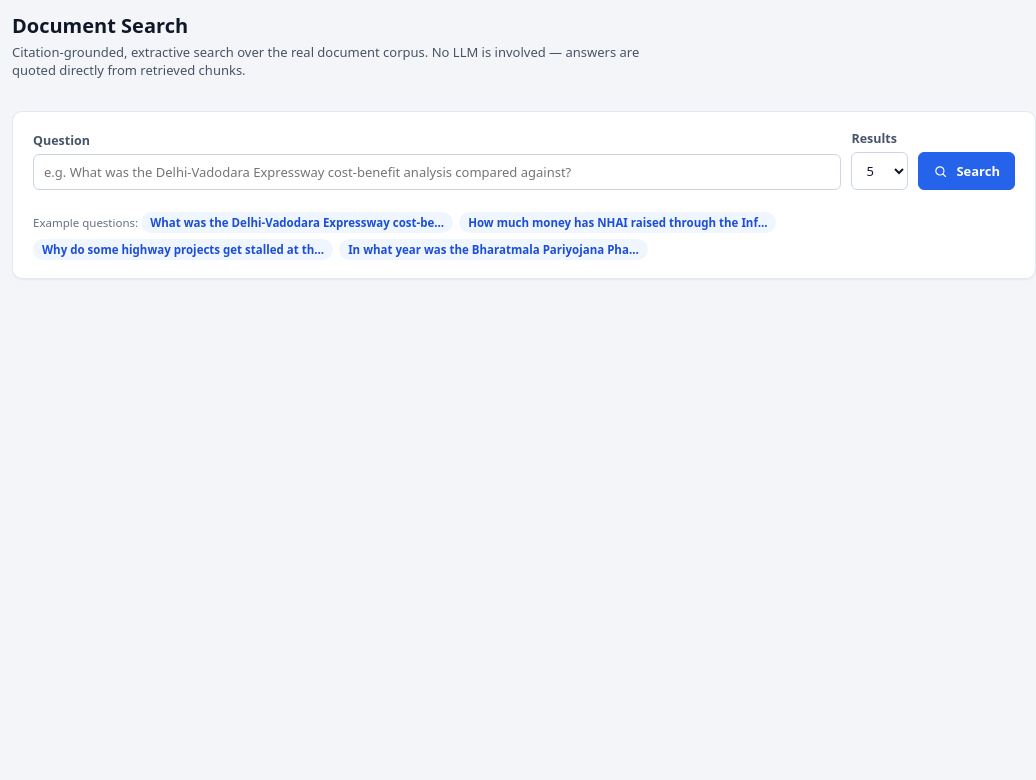
DocumentSearch page › shows the exact backend not-found message when nothing clears the threshold
Replace the text in the field labelled "Question" with "What is the recipe for chocolate cake?" at (437, 172), box [33, 154, 841, 190]
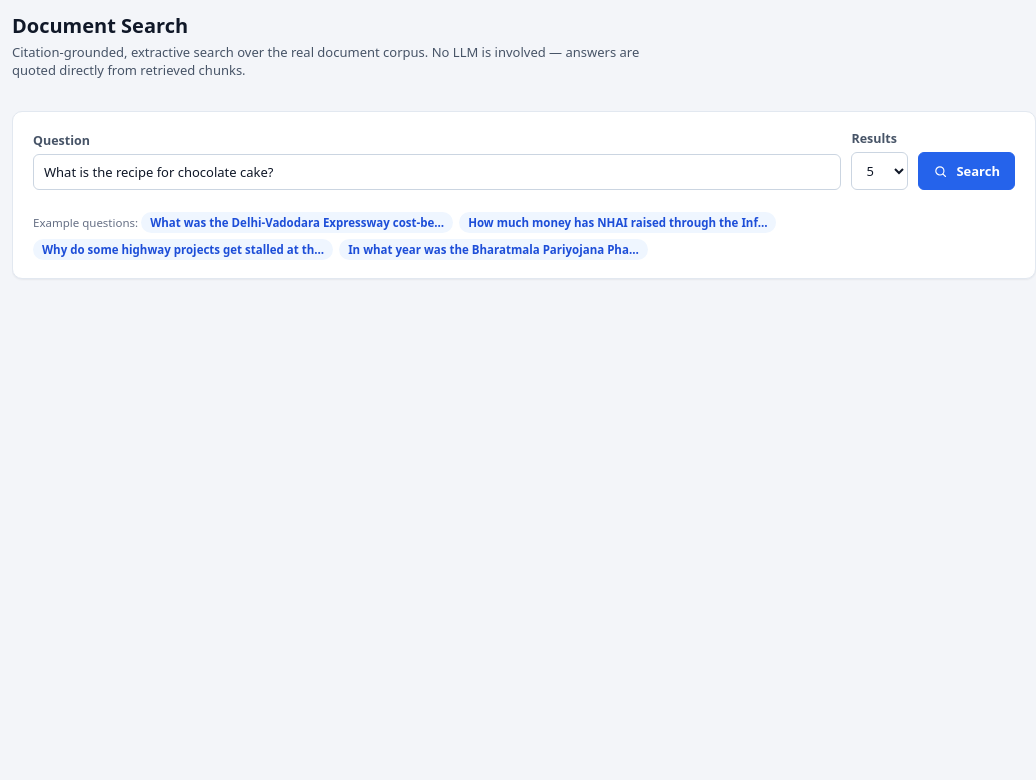
Click the button "Search".
click(967, 171)  # box [918, 152, 1015, 190]
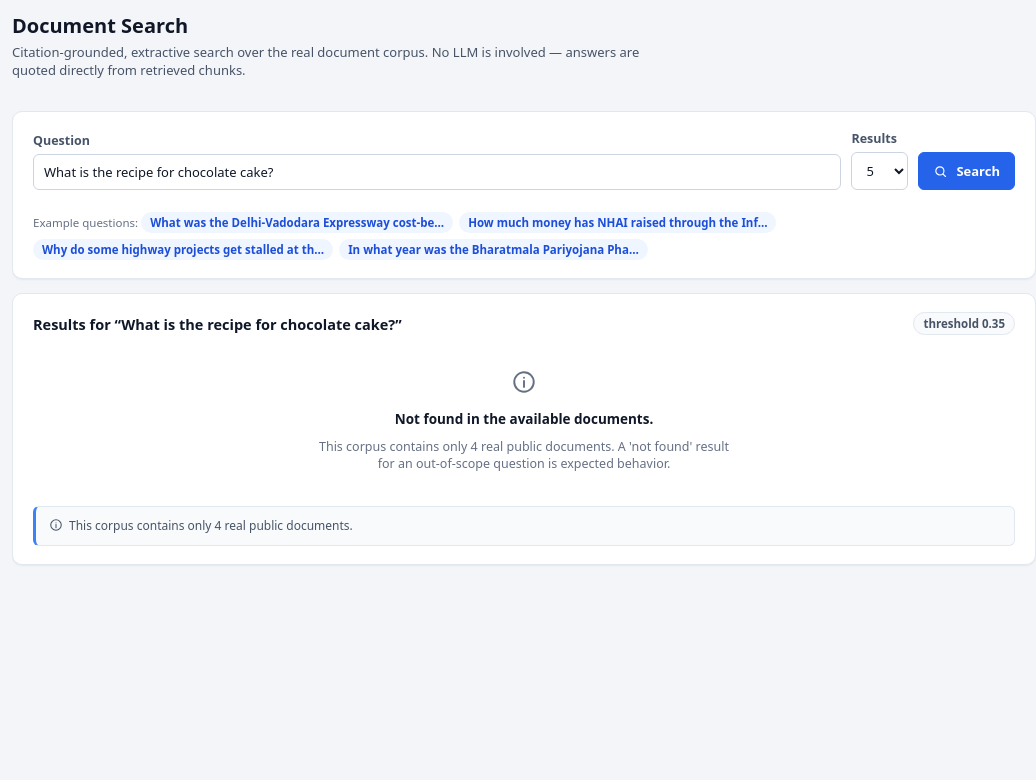
Expected: the text "Not found in the available documents." is shown, [395, 410, 653, 428]
